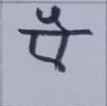ai_matra: (38, 6, 75, 31)
